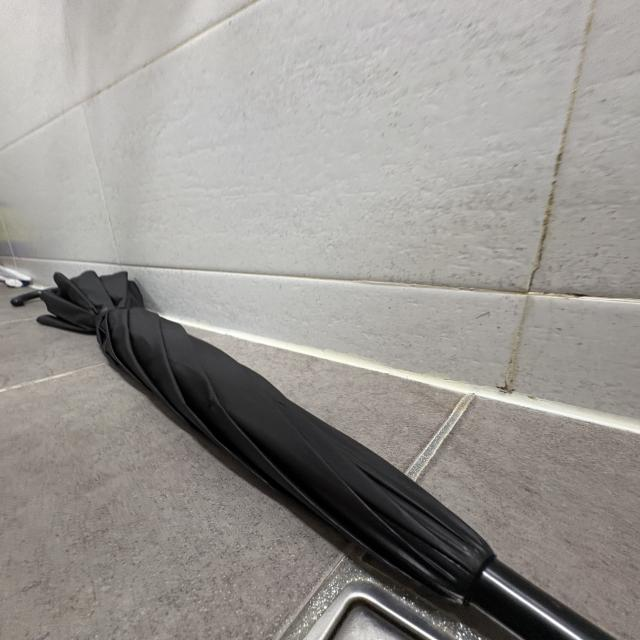umbrella: (12, 268, 606, 640)
